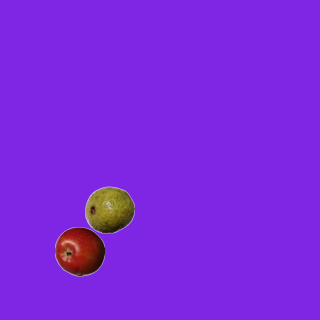Apple Braeburn: (54, 226, 104, 276)
Guava: (84, 184, 134, 234)
